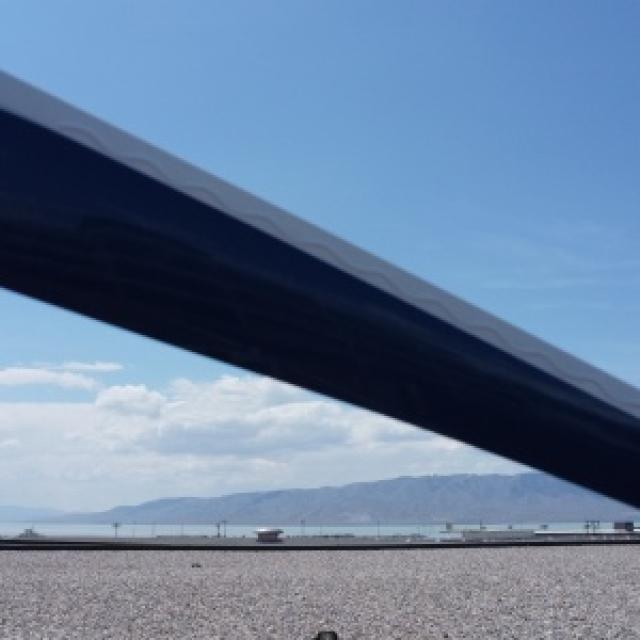healthy: (0, 70, 638, 506), (0, 548, 638, 638)
